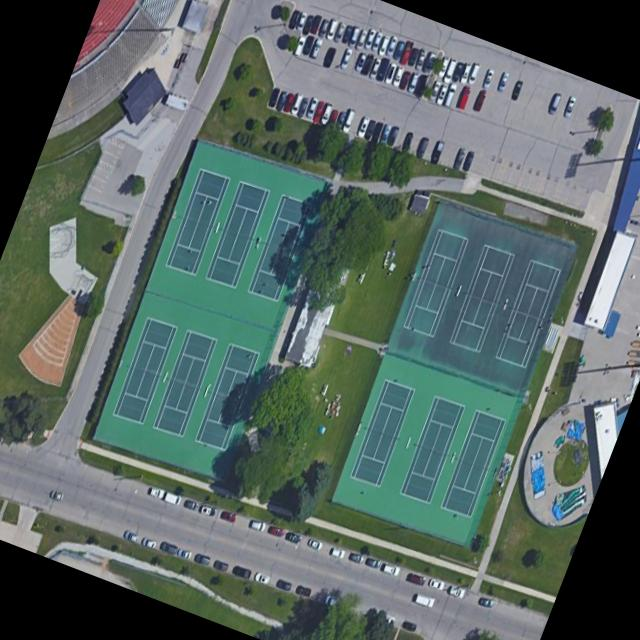small-vehicle: (399, 40, 416, 66), (443, 82, 459, 109), (383, 59, 399, 86), (443, 58, 459, 84), (421, 75, 437, 101), (472, 89, 488, 114), (342, 108, 358, 133), (289, 91, 305, 116), (413, 73, 429, 97), (451, 147, 466, 172), (296, 93, 311, 118), (461, 149, 477, 172), (321, 46, 337, 69), (547, 92, 562, 116), (467, 61, 482, 85), (370, 121, 385, 145), (416, 137, 431, 161), (391, 65, 406, 89), (320, 101, 335, 125), (414, 593, 437, 608), (431, 142, 446, 165), (437, 54, 452, 77), (305, 95, 320, 118), (362, 53, 376, 77), (355, 28, 369, 52), (405, 572, 427, 587), (385, 35, 400, 57), (312, 100, 327, 122), (459, 86, 472, 111), (452, 61, 466, 84), (436, 84, 450, 107), (376, 58, 390, 81), (333, 21, 347, 44), (288, 8, 302, 31), (423, 50, 437, 73), (415, 47, 429, 70), (407, 71, 421, 94), (275, 90, 289, 113), (460, 61, 473, 85), (370, 31, 384, 53), (363, 118, 377, 140), (386, 125, 400, 147), (284, 530, 303, 546), (163, 491, 183, 506), (266, 524, 286, 539), (401, 132, 414, 155), (380, 563, 401, 577), (310, 38, 324, 59), (302, 35, 316, 56), (398, 70, 412, 91), (267, 87, 281, 108), (564, 97, 577, 119), (341, 48, 354, 70), (378, 34, 391, 56), (364, 28, 377, 50), (349, 25, 362, 47), (294, 35, 307, 57), (283, 91, 296, 113), (324, 593, 343, 608), (232, 565, 252, 579), (380, 124, 394, 144), (358, 115, 372, 135), (511, 80, 524, 101), (369, 58, 382, 79), (310, 14, 323, 35), (393, 40, 406, 61), (401, 619, 419, 634), (294, 583, 312, 598), (149, 485, 167, 500), (448, 585, 467, 599), (159, 541, 178, 555), (497, 72, 510, 92), (482, 69, 495, 89), (355, 52, 368, 72), (254, 570, 271, 585), (364, 556, 382, 570), (194, 552, 212, 566), (342, 23, 354, 44), (476, 596, 495, 609), (430, 81, 443, 100), (296, 12, 308, 32), (408, 47, 420, 67), (428, 578, 445, 592), (123, 530, 140, 544), (379, 614, 397, 627), (219, 511, 238, 523), (307, 538, 324, 551), (276, 578, 293, 591), (212, 558, 229, 571), (141, 536, 158, 549), (347, 552, 365, 564), (318, 20, 330, 38), (183, 499, 199, 512), (329, 548, 346, 560), (250, 519, 267, 531), (304, 16, 314, 35), (49, 491, 65, 501), (200, 505, 213, 516), (178, 549, 192, 559)
